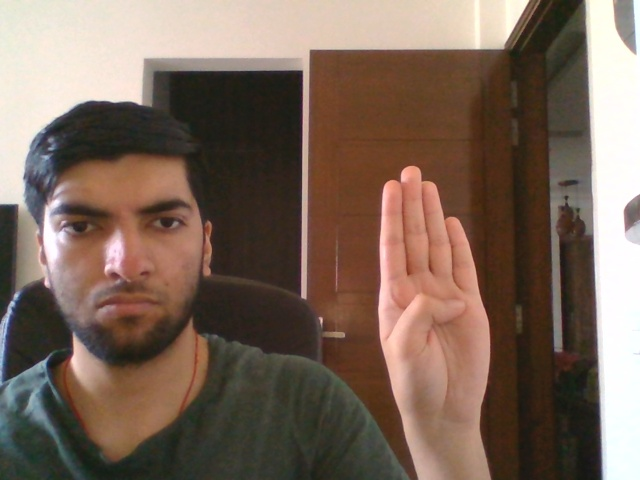LetterB: (376, 164, 493, 427)
